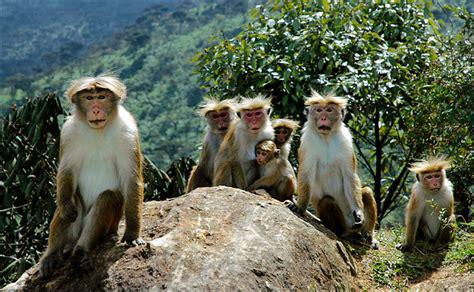monkey: (36, 78, 143, 276), (291, 96, 379, 249), (213, 98, 274, 189), (397, 161, 456, 251), (187, 103, 236, 190), (250, 140, 297, 198), (273, 117, 297, 160)
